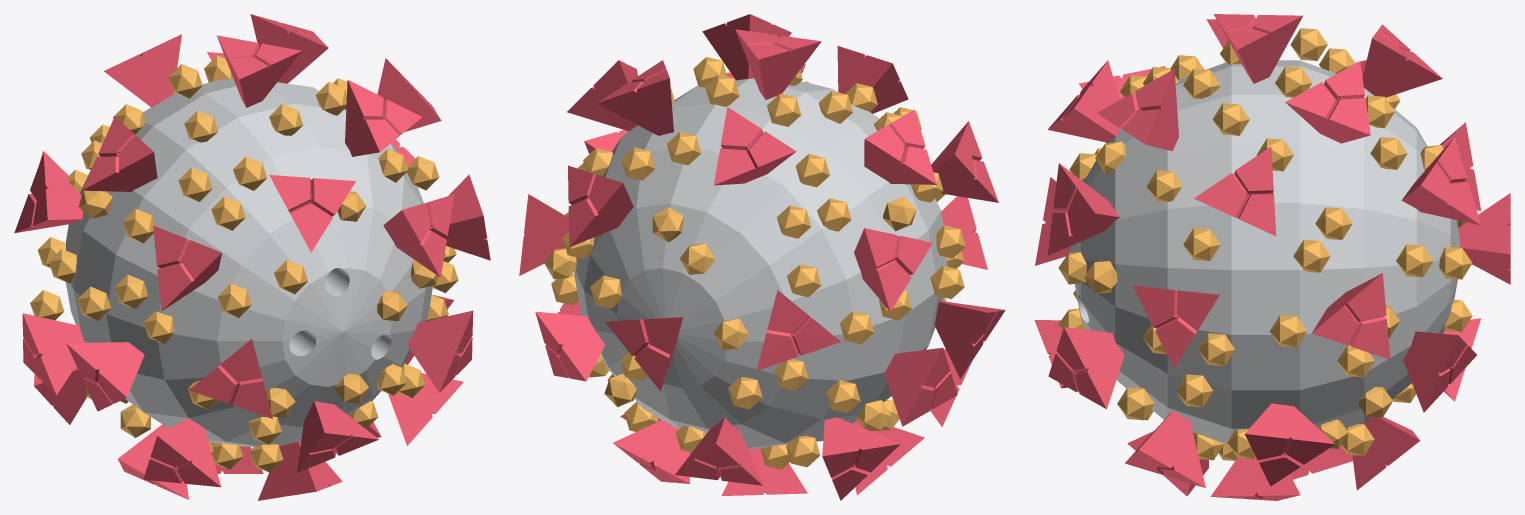
Rendered from virus.glb.
3 renders of one model, left to right at view 1: azimuth 30°, elevation 25°; view 2: azimuth 150°, elevation 25°; view 3: azimuth 270°, elevation 25°, orthographic. The views are drawn at different scales.
Parts seen in each view (by area): view 1: node-0; view 2: node-0; view 3: node-0.
Boxes of the visible parts, <box> form: node-0: <box>14,14,490,500</box>; node-0: <box>519,14,1005,500</box>; node-0: <box>1034,14,1510,500</box>.
Size of the model in its own units: 96.7 by 98.3 by 93.02.
